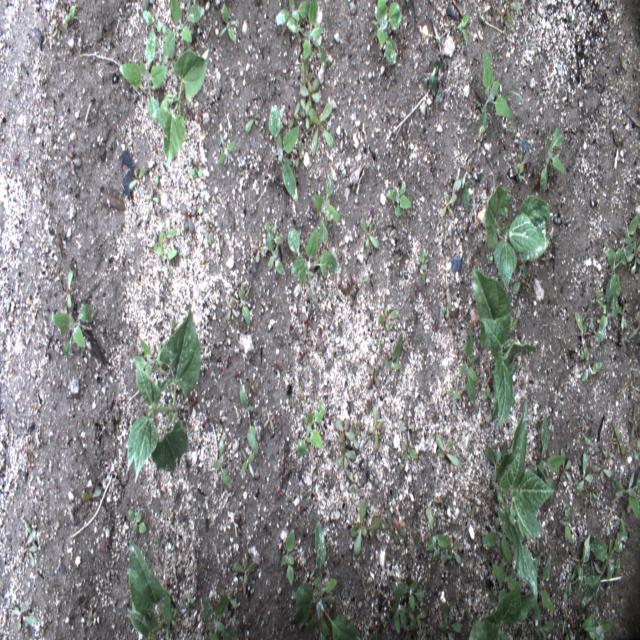crop: (126, 306, 201, 484), (497, 393, 554, 604), (471, 266, 537, 432), (484, 185, 551, 292), (158, 49, 207, 170), (126, 539, 179, 639), (469, 577, 540, 639)
weed: (291, 520, 360, 639), (118, 29, 169, 125), (582, 530, 628, 608), (267, 102, 300, 204), (478, 47, 514, 137), (288, 226, 342, 285), (530, 412, 566, 489), (162, 0, 205, 63), (574, 290, 620, 348), (50, 304, 94, 358), (311, 172, 342, 243), (425, 507, 462, 564), (373, 0, 403, 65), (599, 246, 627, 315), (571, 532, 601, 596), (348, 499, 382, 553), (200, 594, 239, 639), (302, 0, 327, 68), (296, 401, 326, 457), (460, 326, 480, 408), (480, 515, 511, 567), (540, 127, 564, 188), (612, 471, 640, 523), (239, 385, 259, 455), (389, 581, 414, 637), (620, 212, 640, 276), (264, 219, 286, 276), (225, 282, 252, 327), (274, 0, 310, 33), (536, 552, 555, 614), (492, 564, 520, 606), (310, 104, 333, 153), (395, 578, 425, 614), (485, 439, 508, 483), (212, 437, 232, 487), (387, 181, 412, 217), (299, 76, 321, 116), (534, 596, 554, 640), (573, 451, 593, 495), (280, 530, 295, 586), (439, 601, 461, 639), (381, 508, 404, 544), (452, 171, 472, 212), (22, 520, 39, 566), (219, 2, 238, 43), (435, 434, 459, 466), (582, 615, 612, 640), (13, 604, 39, 632), (369, 406, 385, 450), (582, 346, 602, 381), (386, 332, 404, 370), (233, 558, 257, 586), (494, 0, 520, 24), (423, 61, 439, 99), (513, 152, 532, 184), (335, 443, 357, 470), (142, 8, 165, 33), (376, 306, 398, 332), (216, 138, 236, 166), (334, 417, 354, 445), (413, 248, 429, 283), (299, 305, 317, 336), (360, 218, 379, 247), (179, 203, 197, 232), (610, 424, 626, 456), (407, 609, 430, 631), (160, 248, 178, 275), (592, 458, 611, 482), (559, 508, 572, 543), (627, 399, 638, 440), (128, 509, 146, 533), (284, 102, 301, 127), (366, 361, 381, 389), (290, 140, 305, 168), (560, 448, 572, 482), (456, 15, 470, 44), (399, 440, 419, 460), (400, 416, 416, 441), (442, 190, 456, 218), (66, 270, 75, 309), (240, 452, 255, 475), (144, 189, 160, 210), (130, 167, 145, 189), (245, 110, 260, 132), (62, 7, 78, 27), (82, 484, 100, 501), (355, 416, 367, 440), (153, 231, 164, 256), (346, 472, 359, 493)
